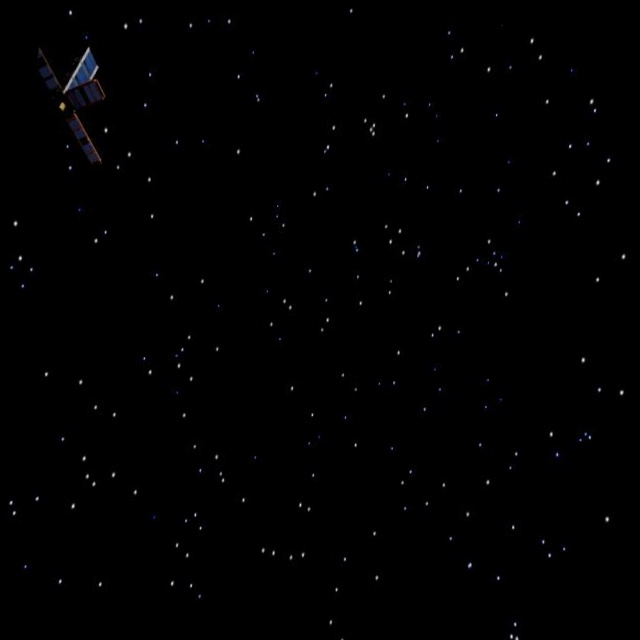medium_debris: (21, 30, 125, 177)
